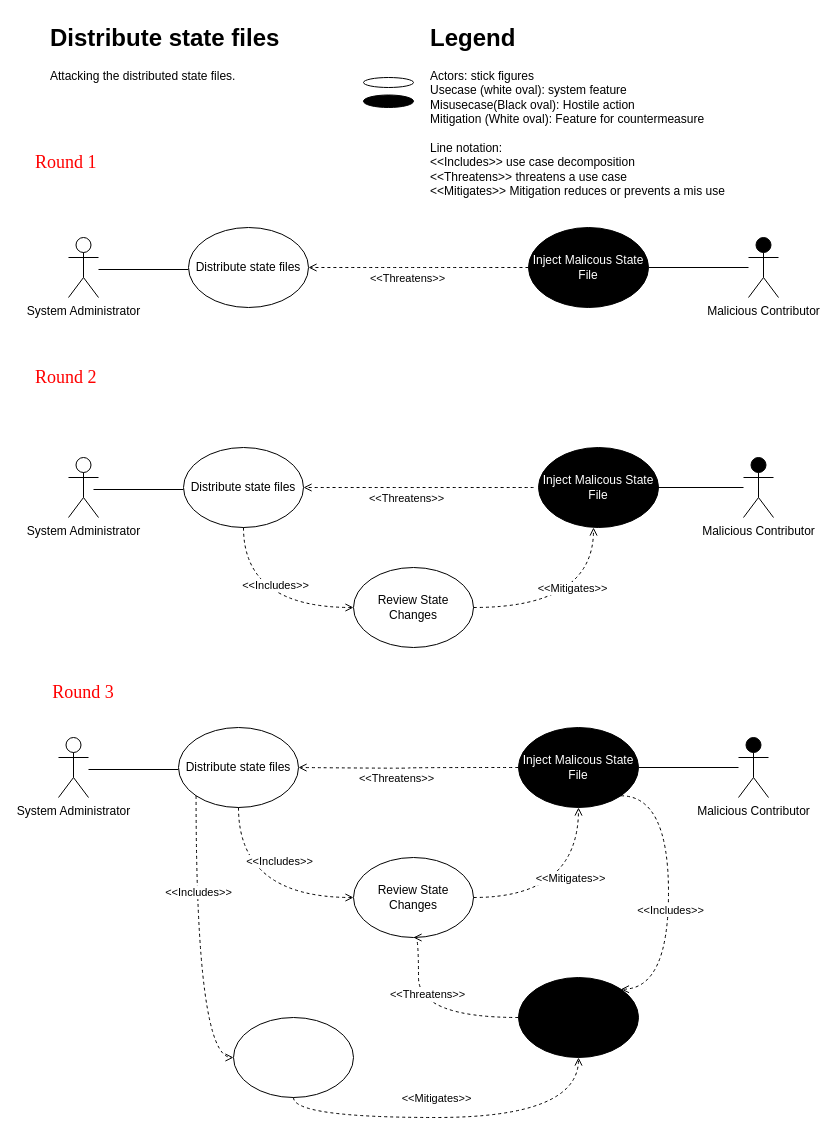
This 837x1135 diagram has some shape labels left out. Here are the shapes that lost their labels. From the top down, the centre of each, then its label:
At [578,1017]: "Maintainer Account Compromise".
At [293,1057]: "Code Review".
